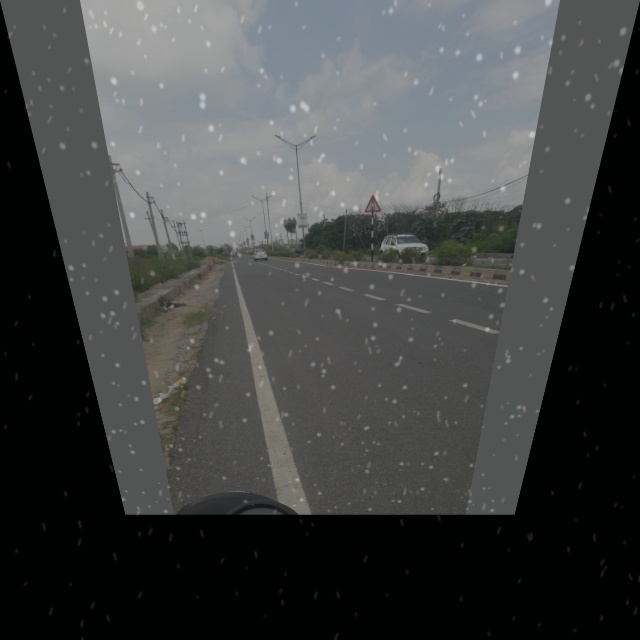Gap_in_Median: (360, 191, 384, 214)
